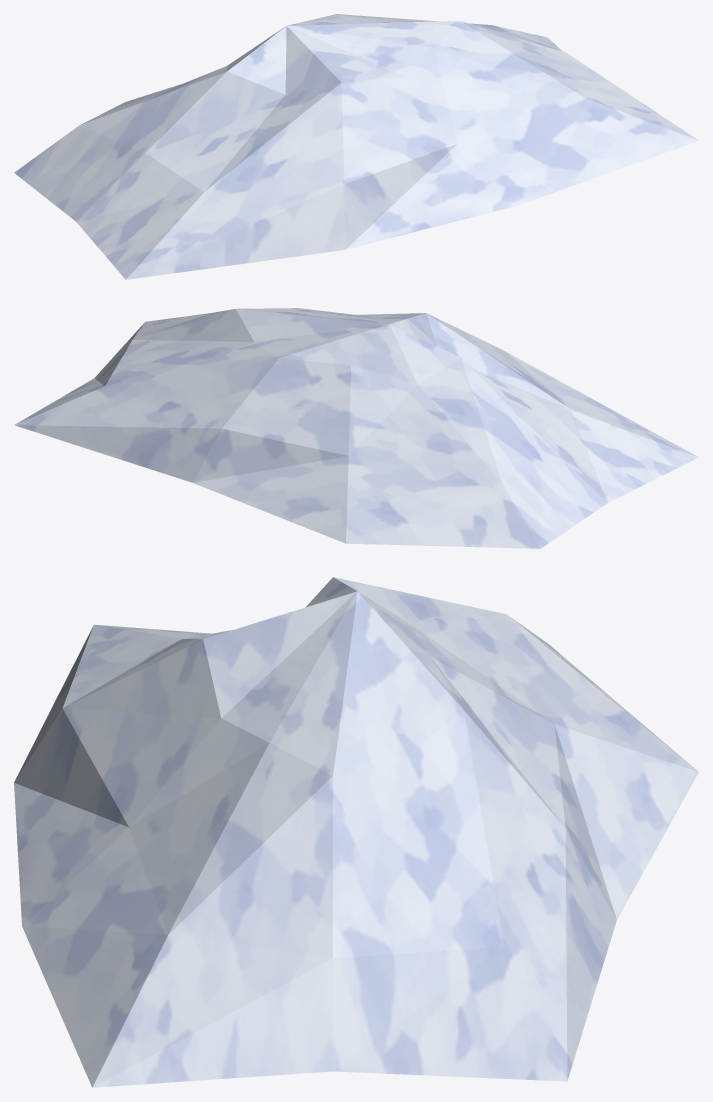
Rendered from drift_medium.glb.
3 views of the same model, one above another, from view 1: azimuth 30°, elevation 25°; view 2: azimuth 150°, elevation 25°; view 3: azimuth 270°, elevation 25° (orthographic). The views are drawn at different scales.
Parts seen in each view (by area): view 1: winter_drift_medium; view 2: winter_drift_medium; view 3: winter_drift_medium.
Part boxes in pixels (x1,y1,x2,y2): winter_drift_medium: (14, 14, 698, 279); winter_drift_medium: (14, 308, 698, 548); winter_drift_medium: (14, 577, 698, 1087).
Bounding box in the file's own units: 2.4 × 0.55 × 1.5.
Materials: 1 (1 with a texture image).
